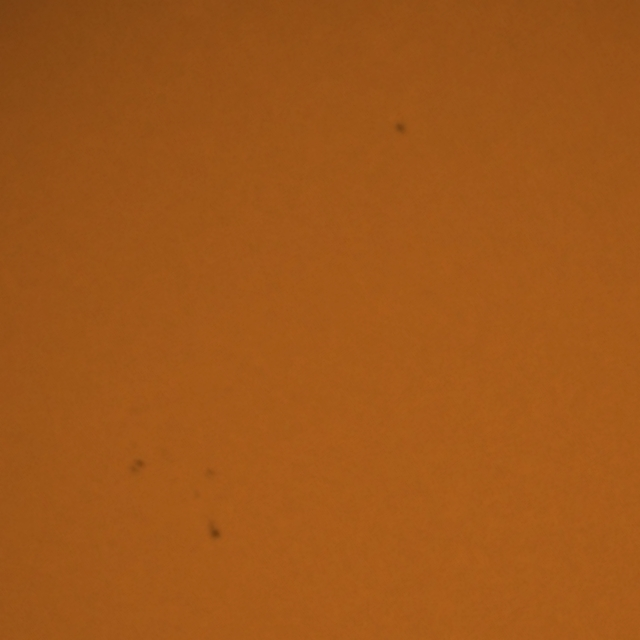sunspot: (128, 457, 147, 477), (208, 522, 223, 544), (392, 120, 408, 138)
